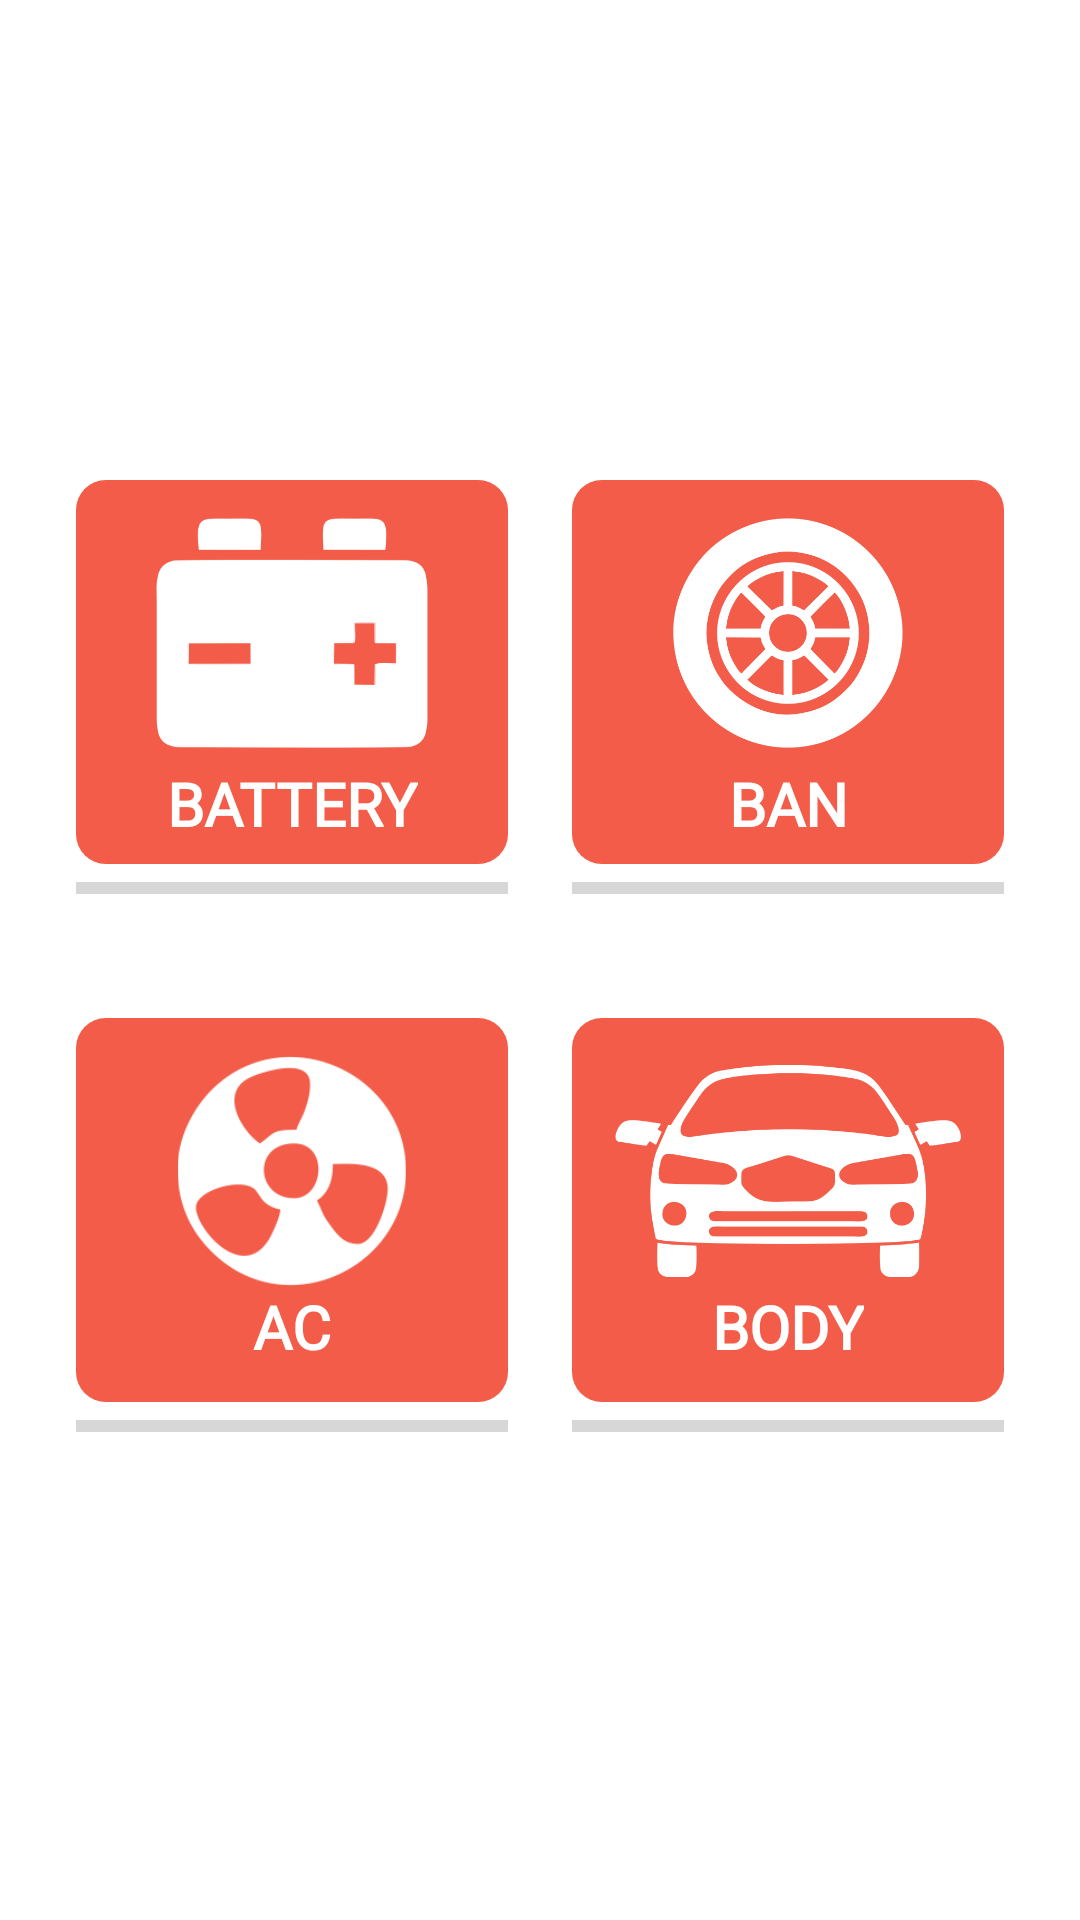

Point at icon controls on the screen. Image size 1080*1920, points as [x,y].
car: [788,1171]
